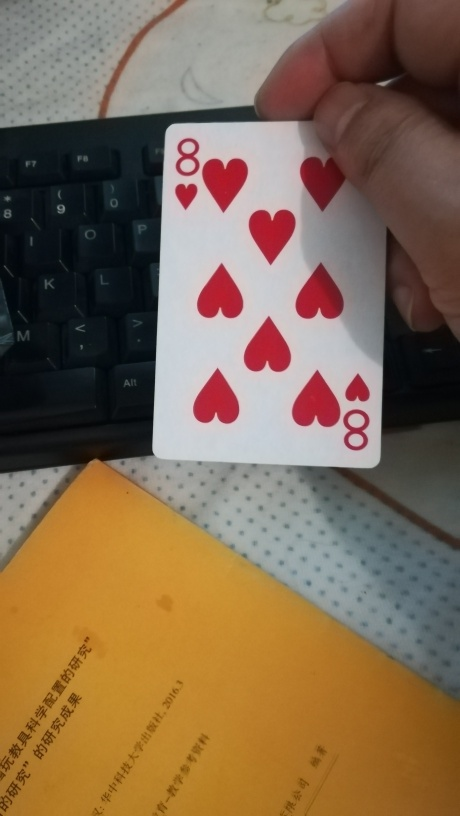hx 8: (148, 123, 387, 467)
